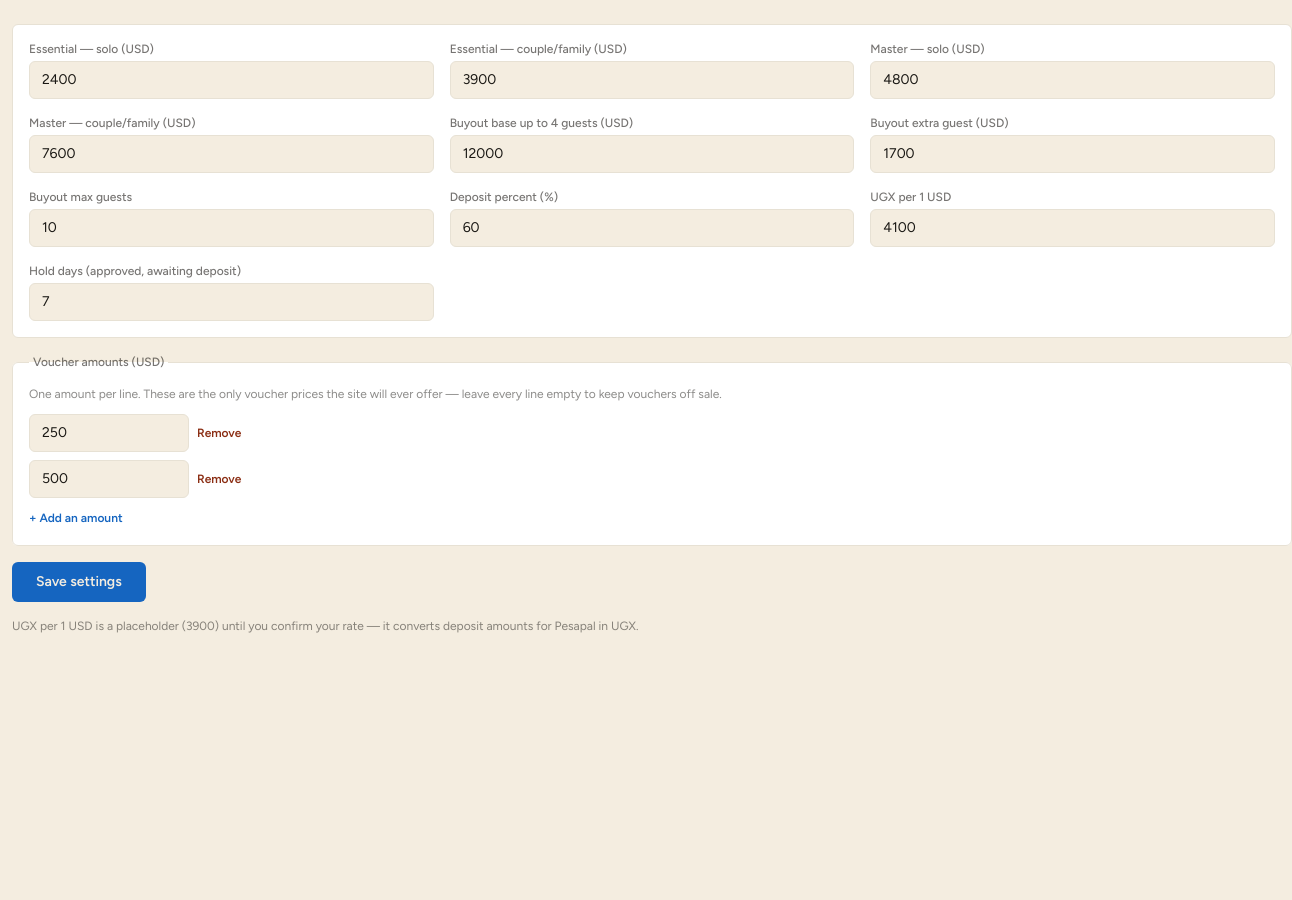
Scenario: SettingsForm partial save › reports a rejected save without pretending it worked
Replace the text in the number field labelled "UGX per 1 USD" with "4200" at (1073, 228), box [870,209,1275,247]
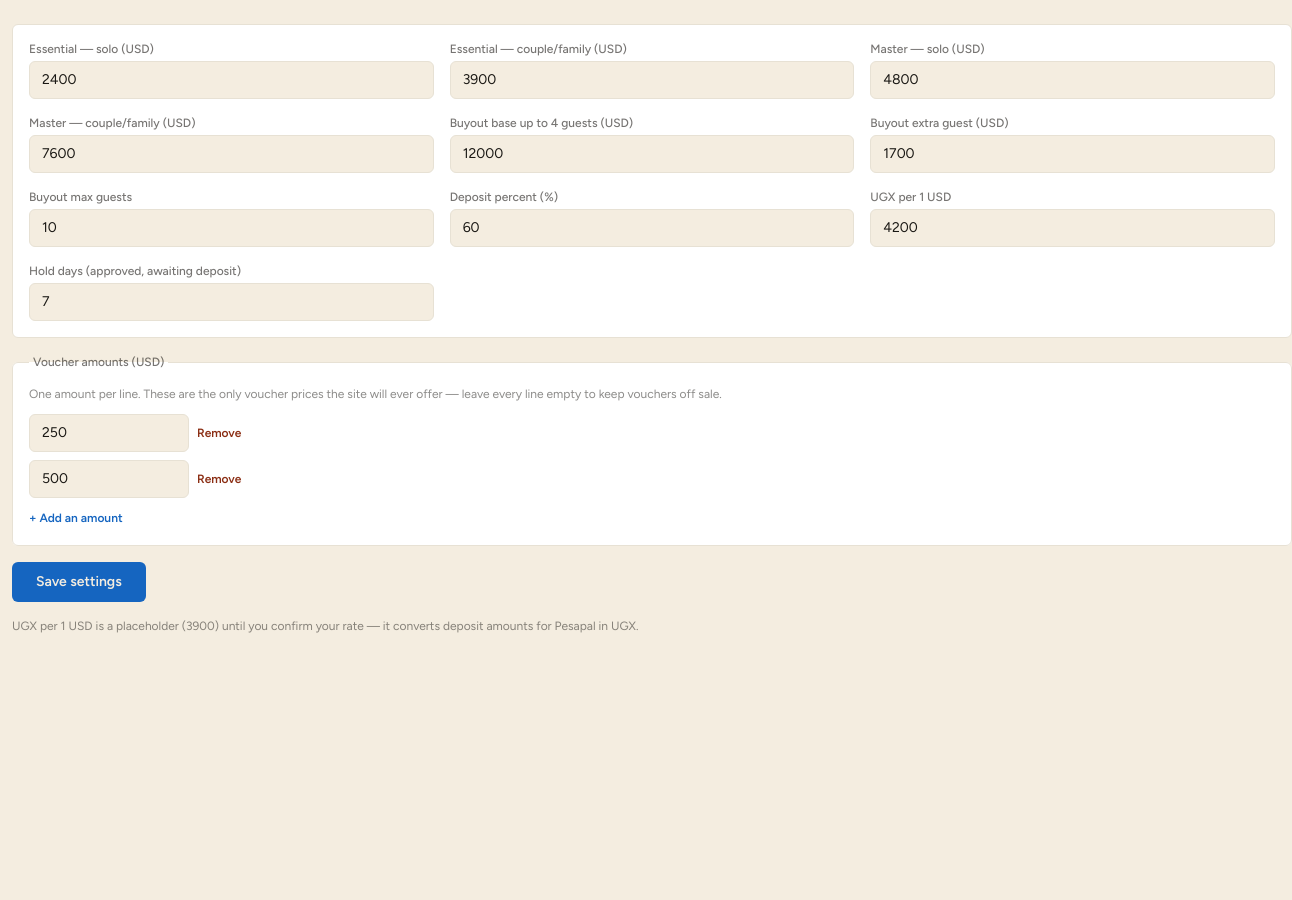
Click the button "Save settings".
click(79, 582)  # box [12,562,146,602]
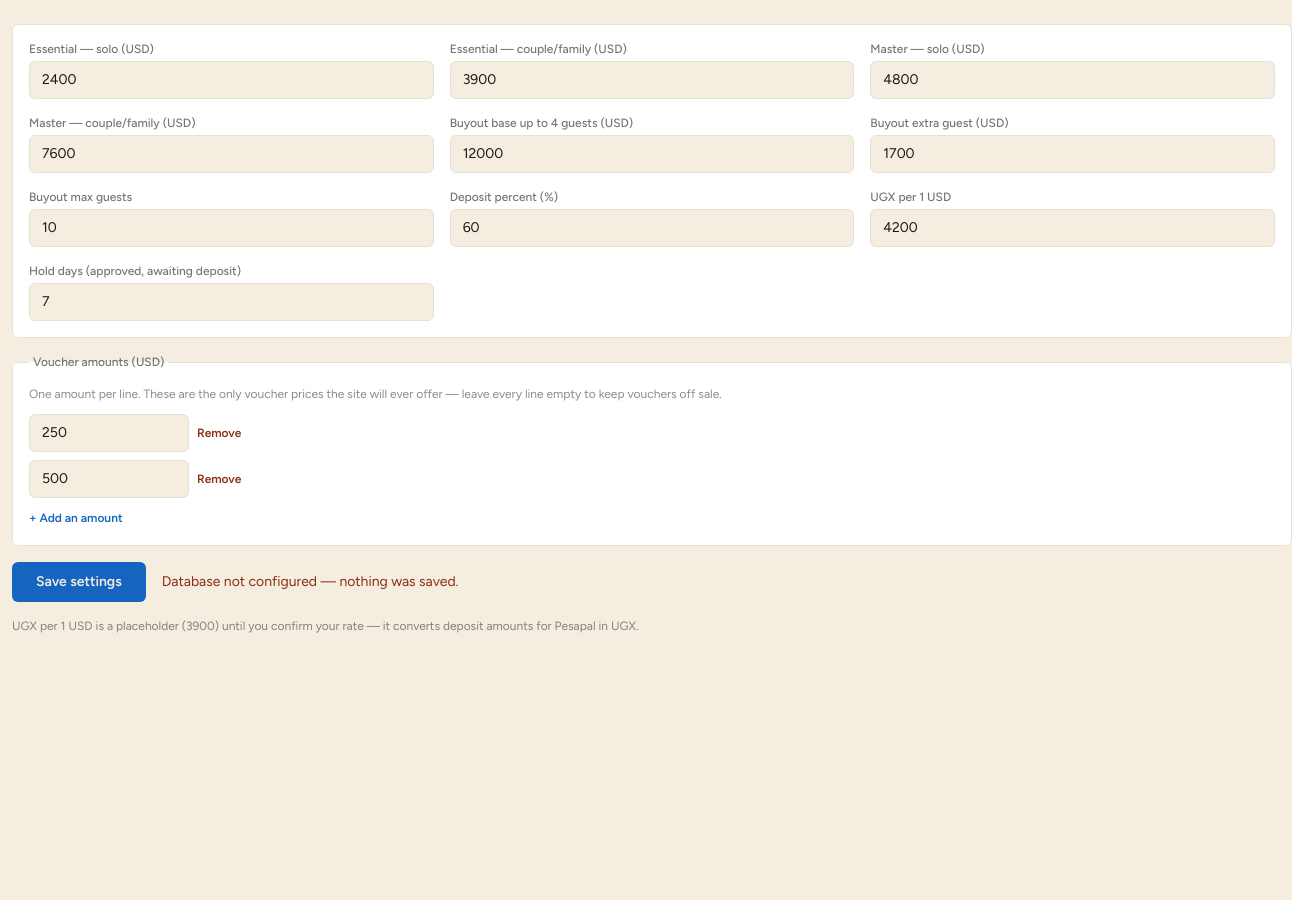
Expected: the message shows "not configured", [162,573,458,590]
